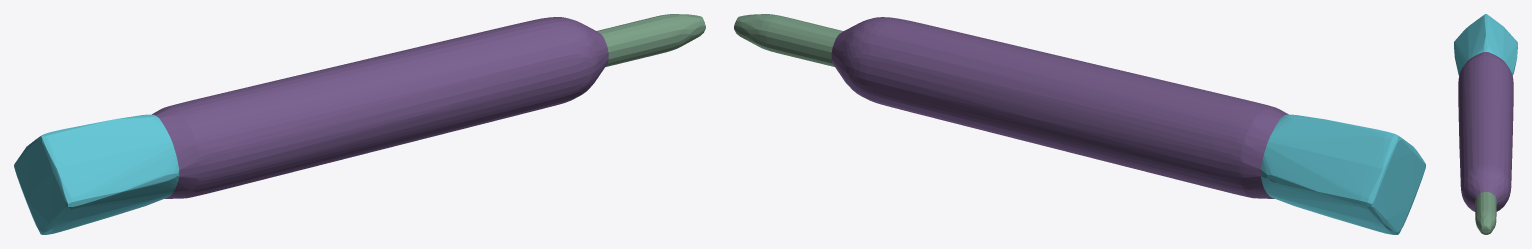
Rendered from staples_marker.obj.
3 views of the same model, side by side, from view 1: azimuth 30°, elevation 25°; view 2: azimuth 150°, elevation 25°; view 3: azimuth 270°, elevation 25° (orthographic). The views are drawn at different scales.
Parts seen in each view (by area): view 1: geometry_1, geometry_2, geometry_0; view 2: geometry_1, geometry_2, geometry_0; view 3: geometry_1, geometry_2, geometry_0.
Boxes of the visible parts, <box> form: geometry_1: <box>152,17,608,198</box>; geometry_2: <box>14,114,179,234</box>; geometry_0: <box>597,14,705,66</box>; geometry_1: <box>831,17,1288,198</box>; geometry_2: <box>1261,114,1425,234</box>; geometry_0: <box>734,14,843,66</box>; geometry_1: <box>1458,52,1513,211</box>; geometry_2: <box>1454,14,1517,75</box>; geometry_0: <box>1475,192,1496,234</box>.
Size of the model in its own units: 0.1507 by 0.0217 by 0.0216.
